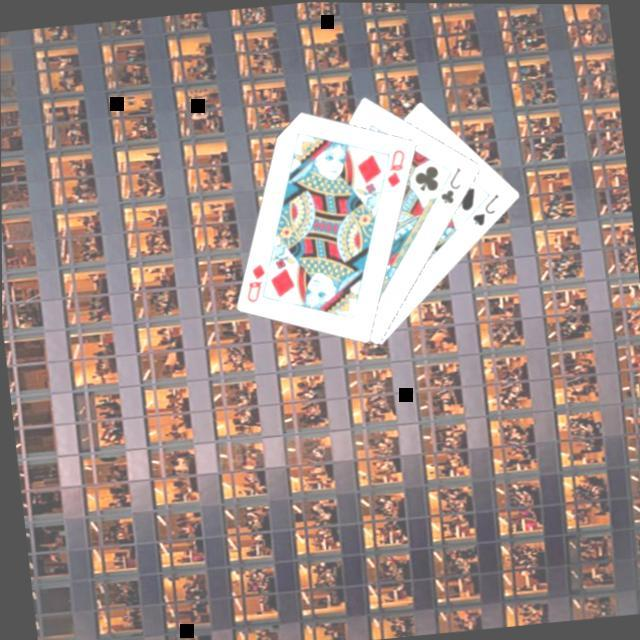JC: (431, 162, 465, 206)
JS: (464, 188, 503, 228)
QD: (378, 143, 408, 190), (238, 258, 268, 304)
